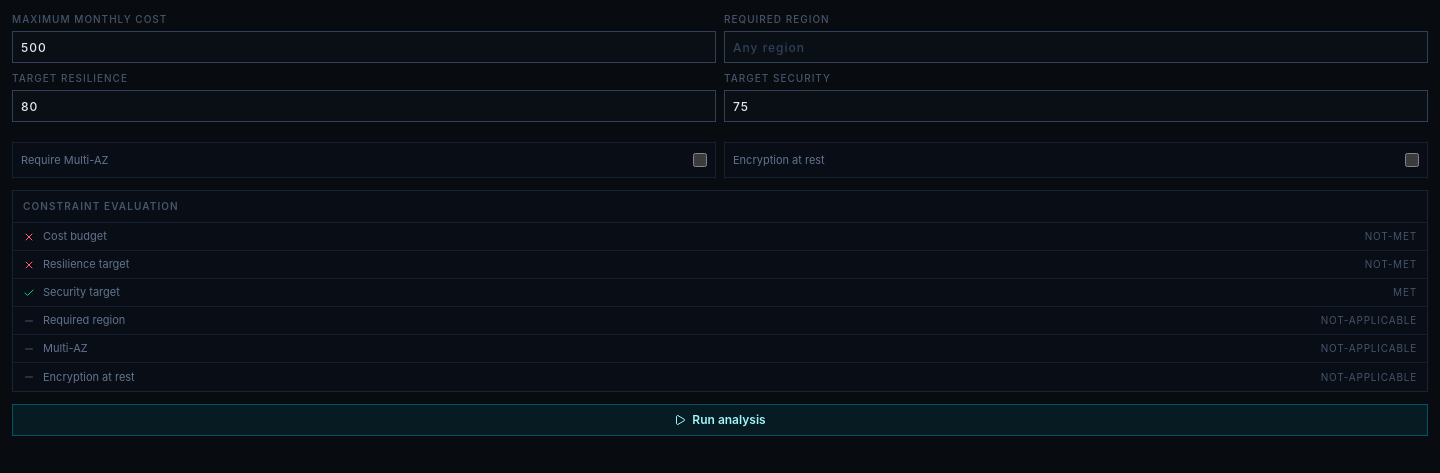
numeric inspector validation › restores rejected Target security without changing history
Replace the text in the number field labelled "Target security" with "-1" at (1076, 106), box [724,90,1428,122]
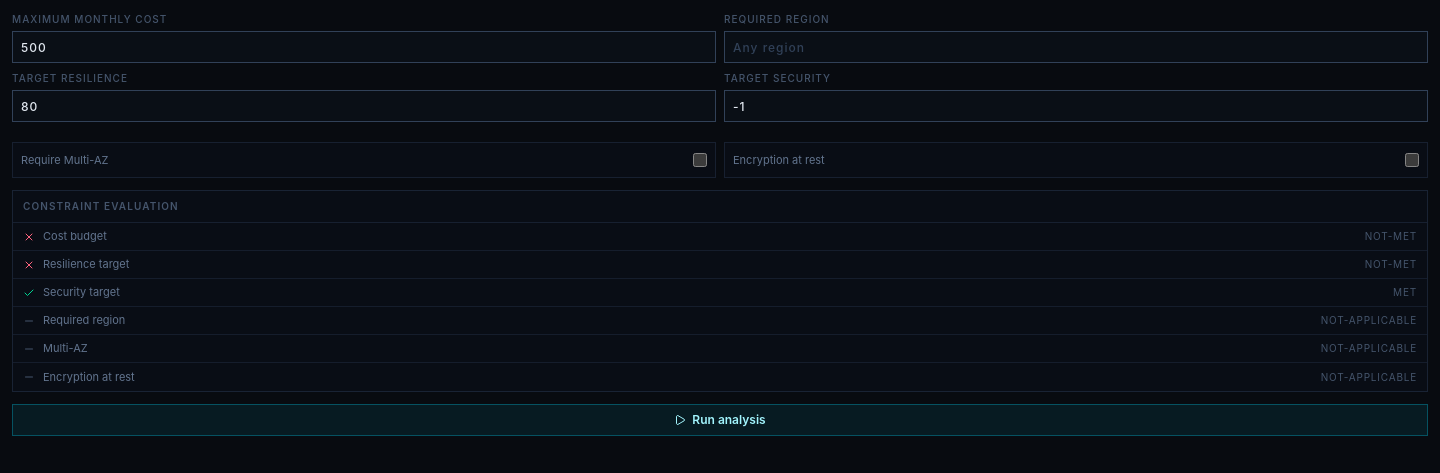
Leave the number field labelled "Target security", box [724,90,1428,122]
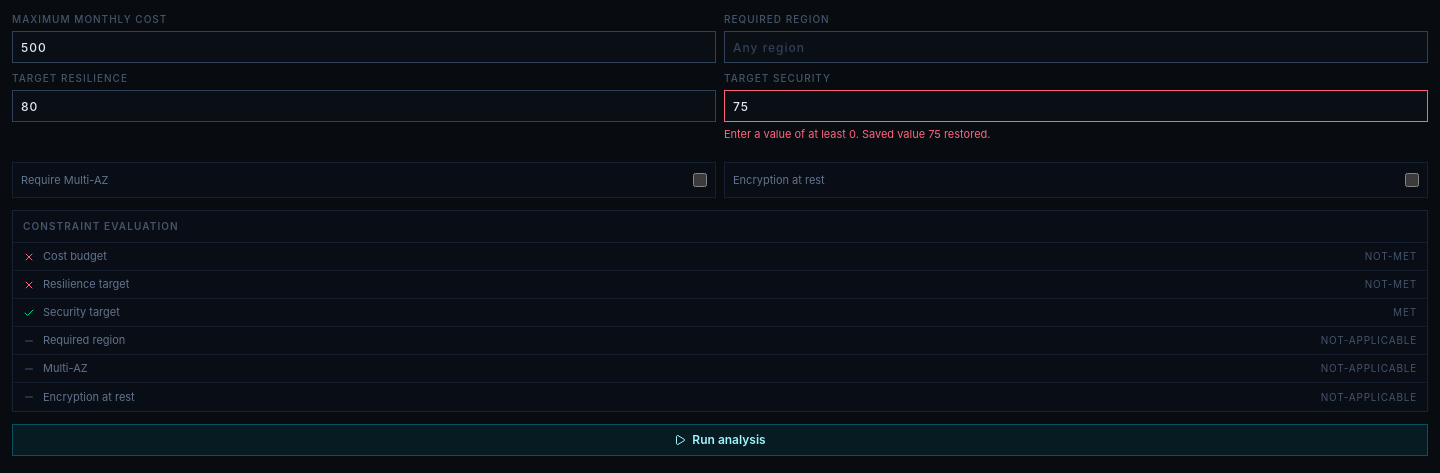
Check: the number field labelled "Target security" holds "75", box [724,90,1428,122]
